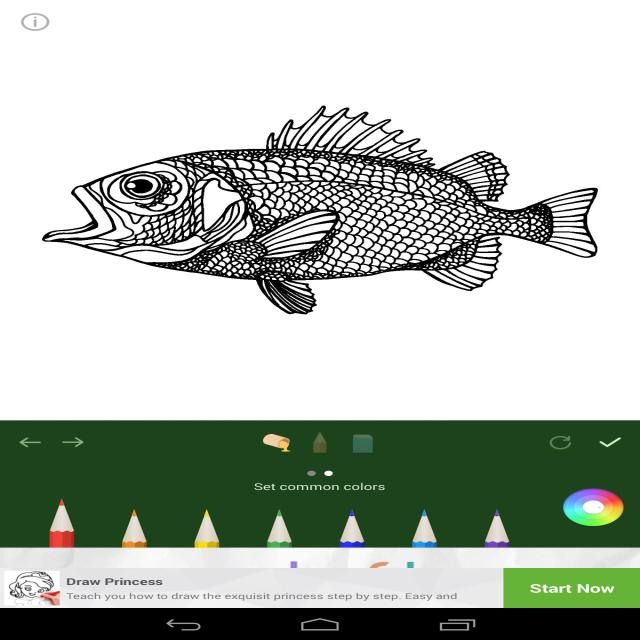button: (505, 569, 640, 607), (557, 484, 628, 531), (579, 430, 636, 457), (252, 427, 296, 458), (2, 429, 50, 453), (348, 428, 383, 459), (535, 429, 576, 455), (304, 428, 336, 458), (52, 430, 88, 454)
iframe: (0, 570, 640, 607)
image: (2, 0, 640, 421), (0, 570, 63, 607)
text: (65, 577, 469, 602), (250, 483, 390, 494)
